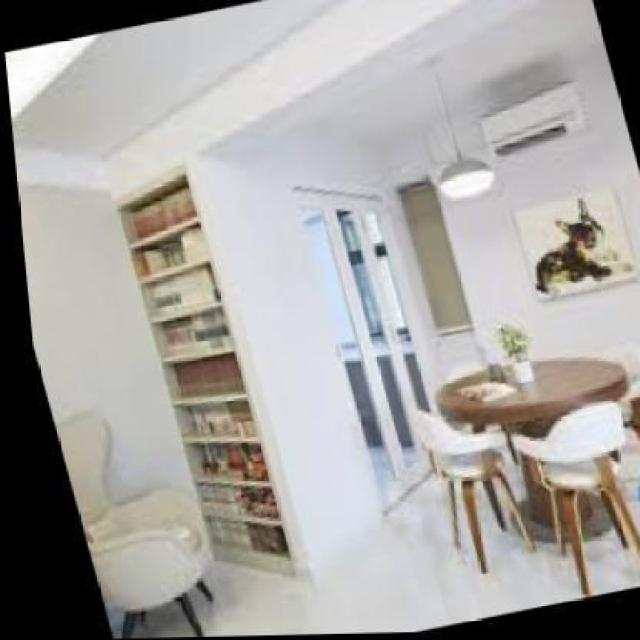tables: (434, 357, 628, 541)
